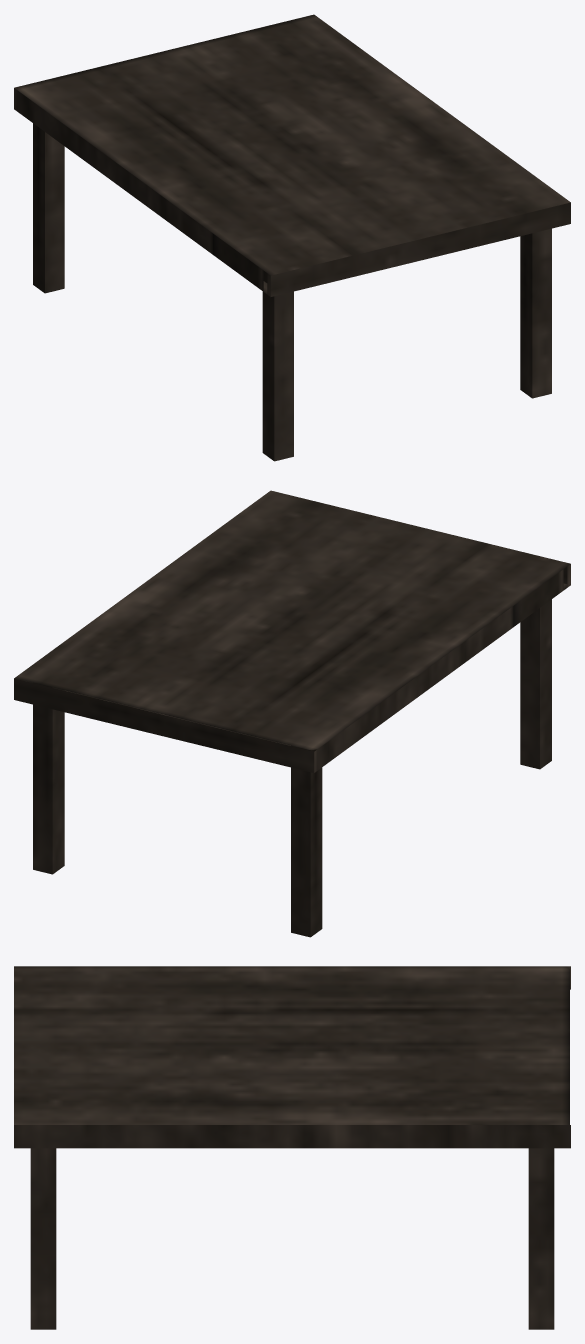
Rendered from SM_EC_Table_0.fbx.
3 renders of one model, top to bottom at view 1: azimuth 30°, elevation 25°; view 2: azimuth 150°, elevation 25°; view 3: azimuth 270°, elevation 25°, orthographic. The views are drawn at different scales.
Parts seen in each view (by area): view 1: SM_EC_Table_0; view 2: SM_EC_Table_0; view 3: SM_EC_Table_0.
Part boxes in pixels (box(x1,y1,x2,y2)): SM_EC_Table_0: box(14, 14, 570, 461); SM_EC_Table_0: box(14, 490, 570, 937); SM_EC_Table_0: box(14, 966, 570, 1329).
Bounding box in the file's own units: 1.46 × 2.17 × 0.9042.
